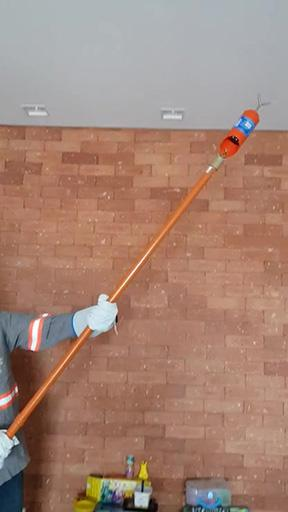Detector_Tensao_Contato: (217, 93, 272, 158)
Vara_Manobra: (1, 158, 226, 449)
